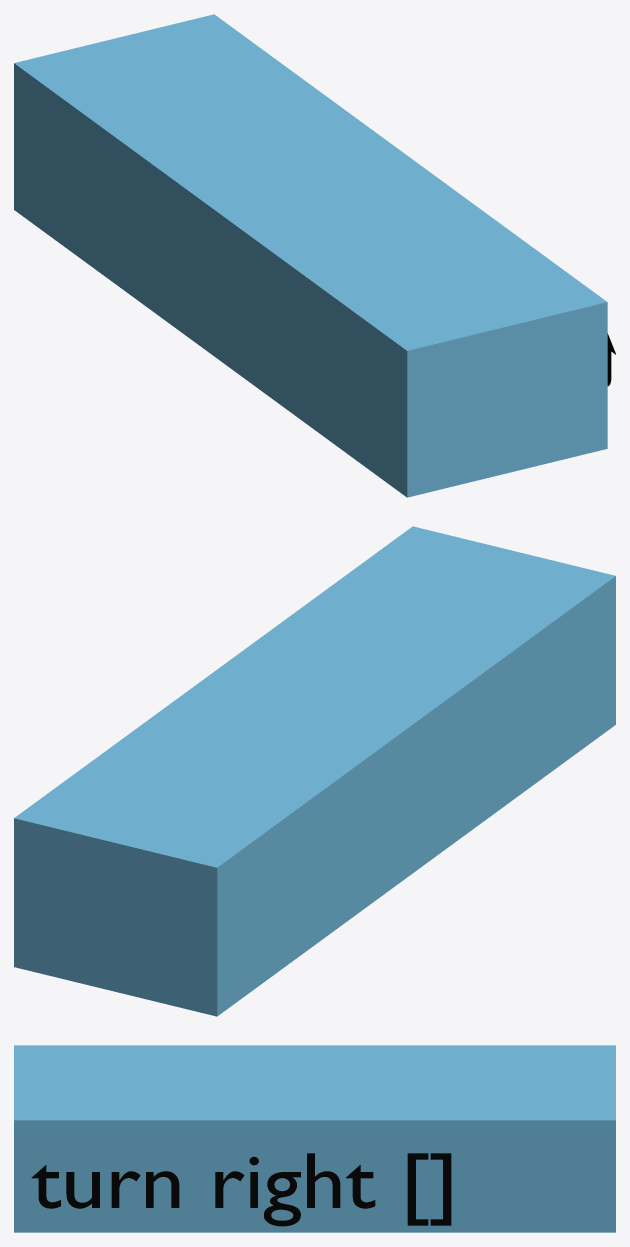
The model's file is Turn Right Block.fbx.
3 views of the same model, one above another, from view 1: azimuth 30°, elevation 25°; view 2: azimuth 150°, elevation 25°; view 3: azimuth 270°, elevation 25° (orthographic). The views are drawn at different scales.
Parts seen in each view (by area): view 1: Cube.005; view 2: Cube.005; view 3: Cube.005, turn right.
Boxes of the visible parts, box(x1,y1,x2,y2) form: Cube.005: box(14, 14, 607, 497); Cube.005: box(14, 526, 615, 1016); Cube.005: box(14, 1045, 615, 1232); turn right: box(31, 1153, 451, 1226).
Bounding box in the file's own units: 110 × 70 × 340.
